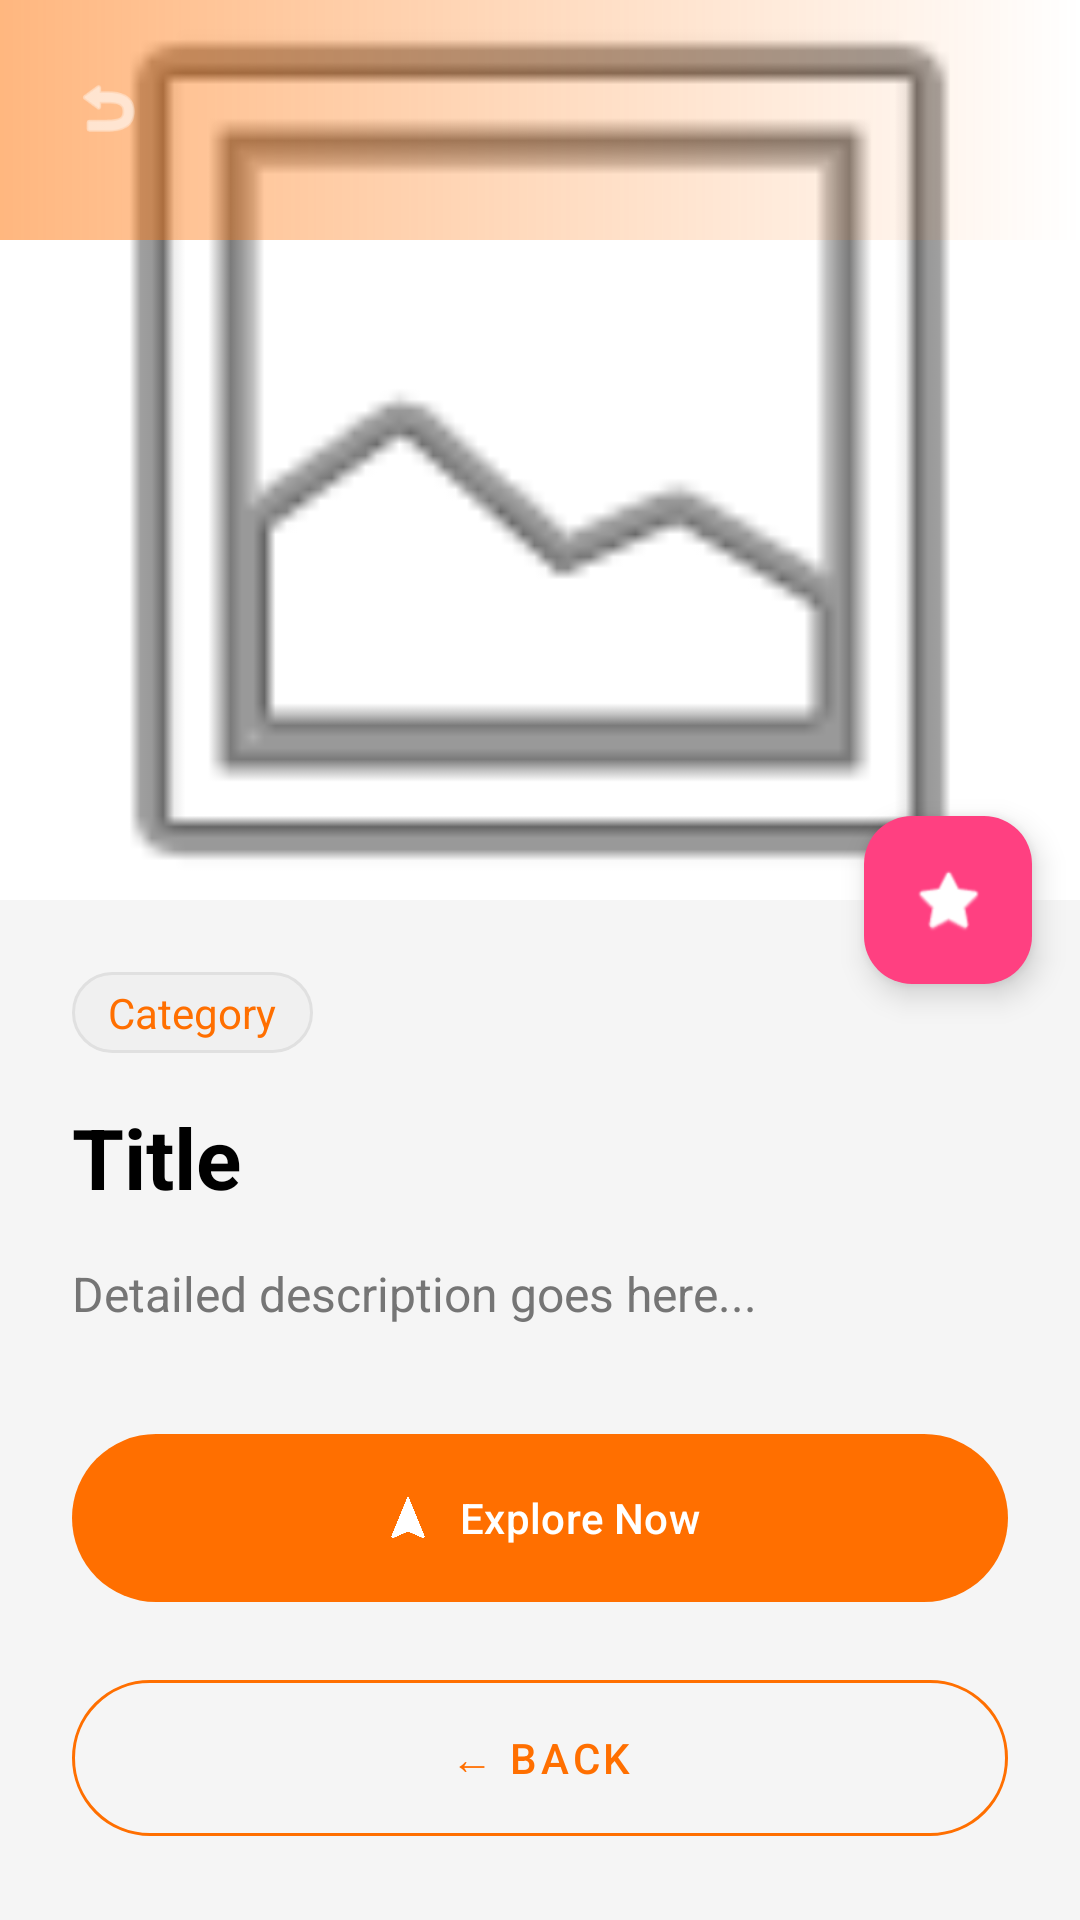

Screen size 1080*1920. Icon name, then its center in pixels as (x,y):
star off: (948,900)
